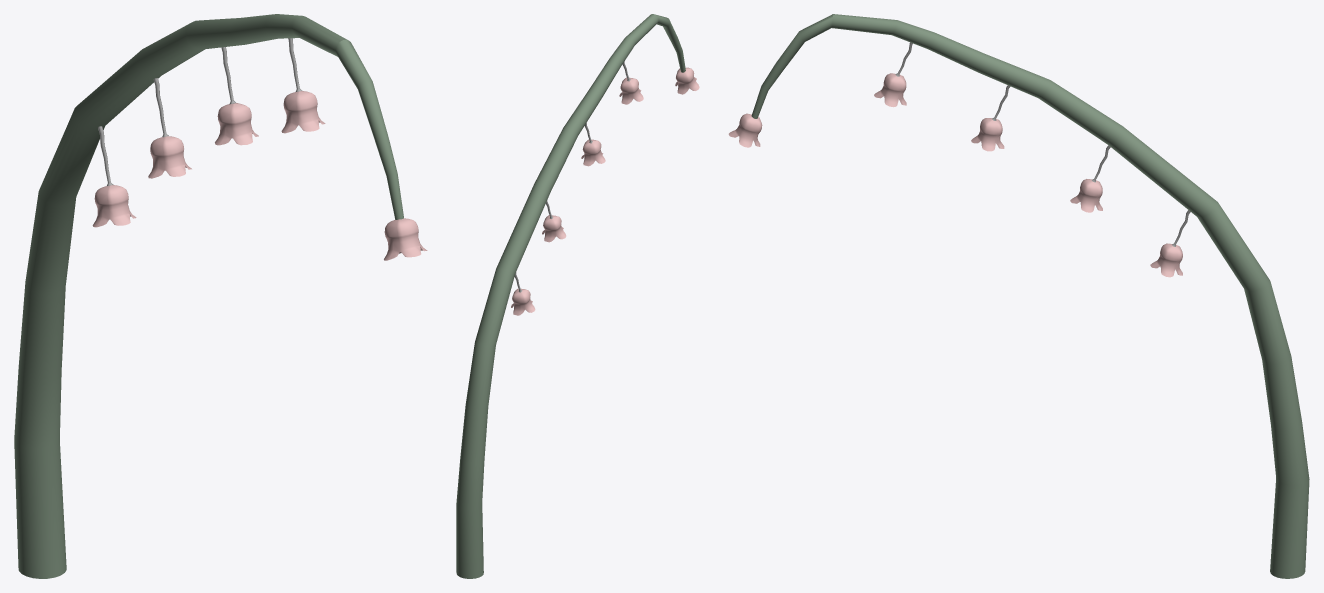
The model's file is lilyNEW.fbx.
3 renders of one model, left to right at view 1: azimuth 30°, elevation 25°; view 2: azimuth 150°, elevation 25°; view 3: azimuth 270°, elevation 25°, orthographic. The views are drawn at different scales.
Parts seen in each view (by area): view 1: pCylinder24; view 2: pCylinder24; view 3: pCylinder24.
Part boxes in pixels (box(x1,y1,x2,y2)): pCylinder24: box(14, 14, 427, 578); pCylinder24: box(456, 14, 699, 578); pCylinder24: box(728, 14, 1309, 578).
Bounding box in the file's own units: 0.2182 × 2.96 × 2.82.
